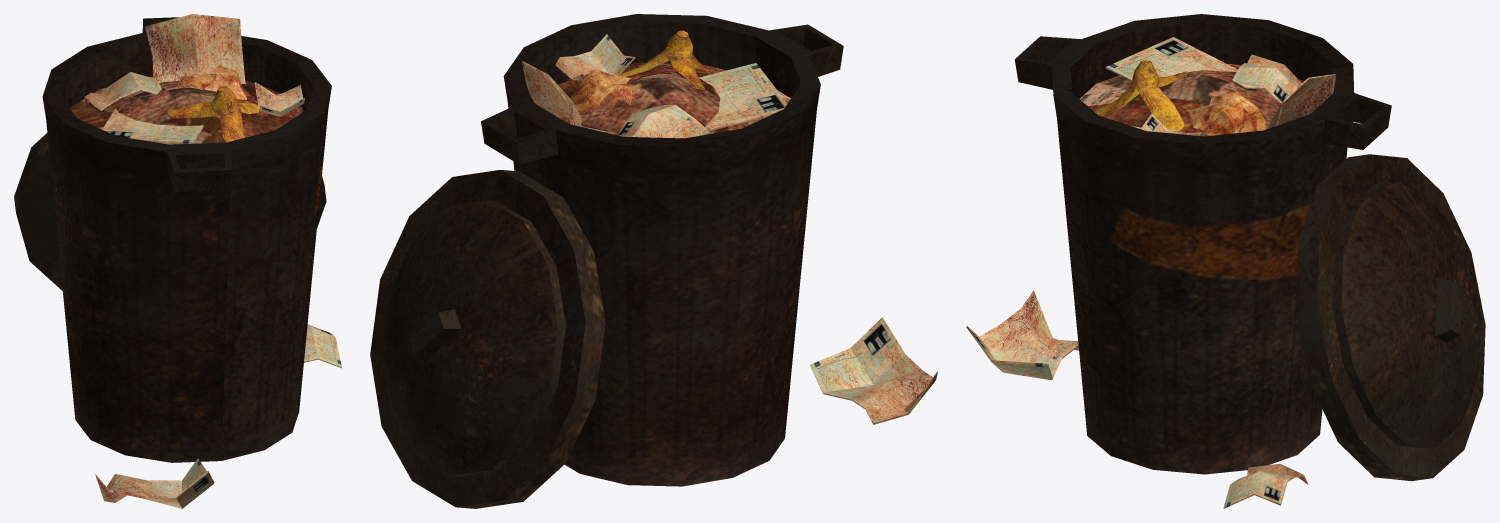
Rendered from trashcan_01.FBX.
3 renders of one model, left to right at view 1: azimuth 30°, elevation 25°; view 2: azimuth 150°, elevation 25°; view 3: azimuth 270°, elevation 25°, orthographic. The views are drawn at different scales.
Parts seen in each view (by area): view 1: trashcan_01; view 2: trashcan_01; view 3: trashcan_01.
Part boxes in pixels (x1,y1,x2,y2): trashcan_01: [14, 14, 341, 508]; trashcan_01: [370, 14, 937, 508]; trashcan_01: [966, 14, 1485, 508].
Bounding box in the file's own units: 0.7522 × 0.6859 × 0.8618.
